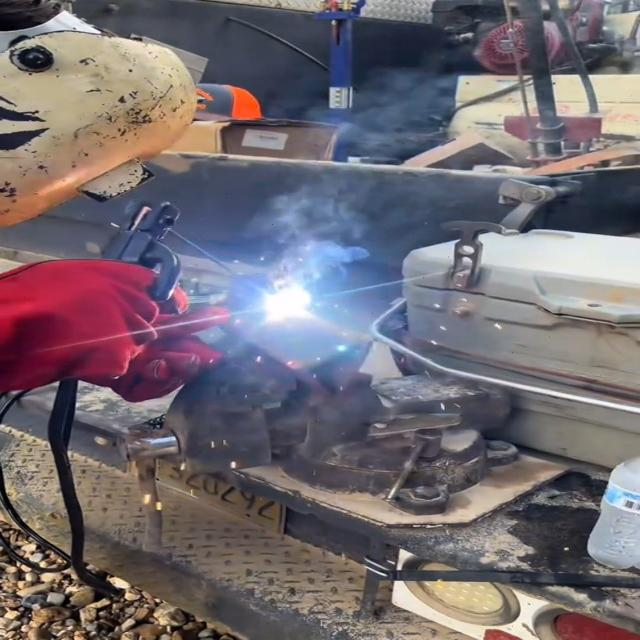fire: (261, 285, 315, 323)
